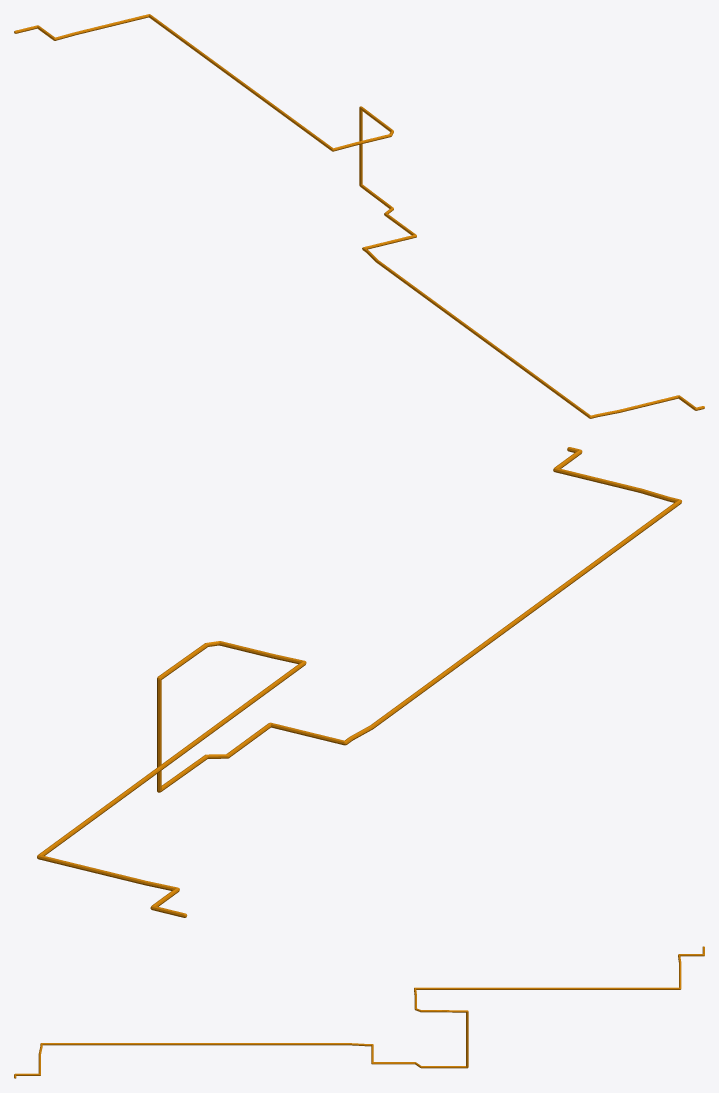
3 renders of one model, top to bottom at view 1: azimuth 30°, elevation 25°; view 2: azimuth 150°, elevation 25°; view 3: azimuth 270°, elevation 25°, orthographic. The views are drawn at different scales.
Size of the model in its own units: 1444 by 520 by 5605.
